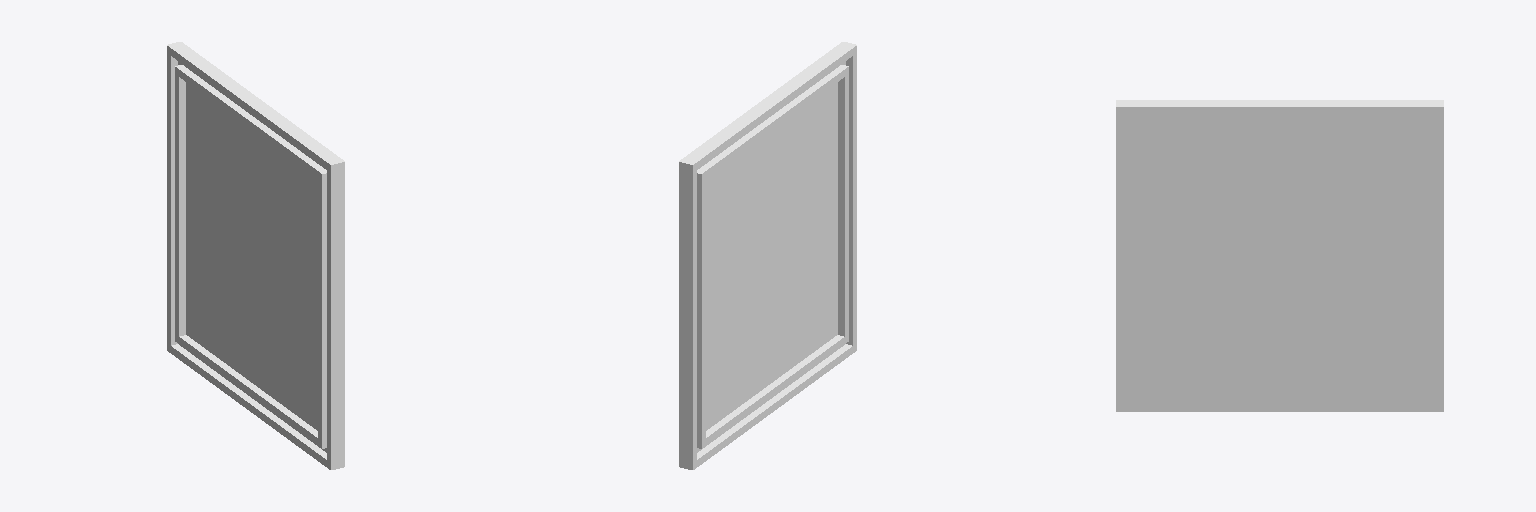
The model's file is Painting-1.obj.
3 renders of one model, left to right at view 1: azimuth 30°, elevation 25°; view 2: azimuth 150°, elevation 25°; view 3: azimuth 270°, elevation 25°, orthographic.
Parts seen in each view (by area): view 1: Painting-1; view 2: Painting-1; view 3: Painting-1.
Boxes of the visible parts, box(x1,y1,x2,y2) form: Painting-1: box(167, 42, 344, 469); Painting-1: box(679, 42, 856, 469); Painting-1: box(1116, 100, 1443, 411).
Bounding box in the file's own units: 2 × 40 × 39.